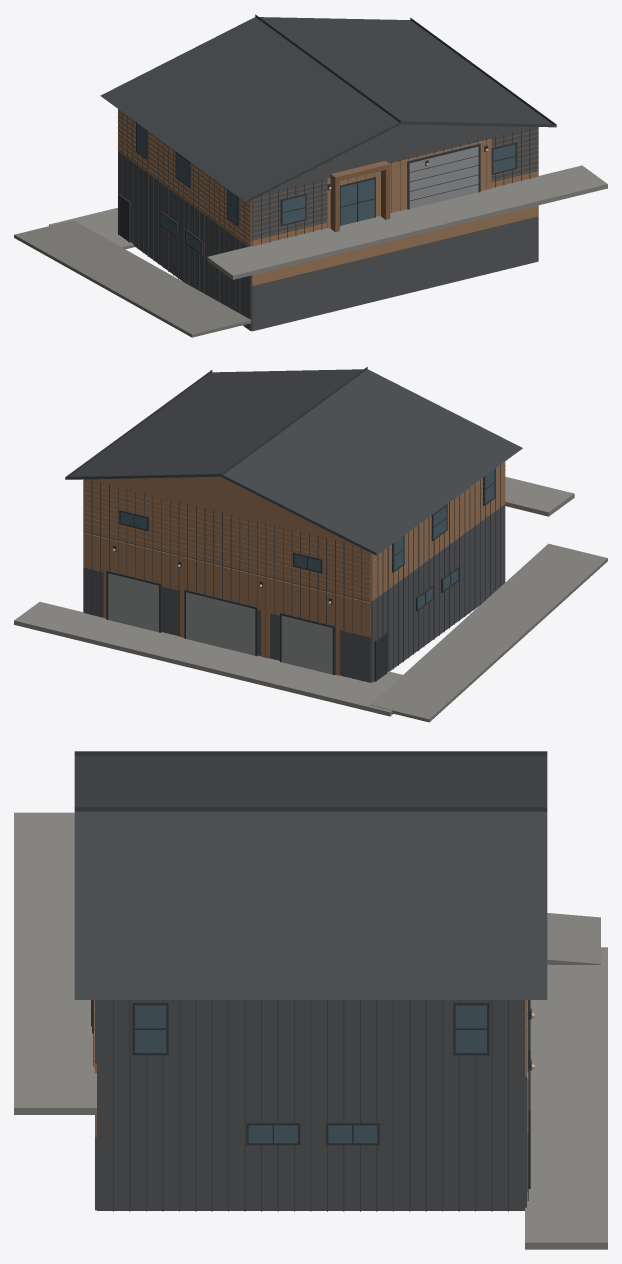
Rendered from walid_warehouse_two_tone.glb.
3 views of the same model, one above another, from view 1: azimuth 30°, elevation 25°; view 2: azimuth 150°, elevation 25°; view 3: azimuth 270°, elevation 25° (orthographic). The views are drawn at different scales.
Visible parts, largest first — view 1: manor_shadow, manor_grey, terrain, burnt_sienna, driveway, burnt_sienna_joint, glazing, black_trim, doors; view 2: manor_shadow, burnt_sienna, manor_grey, driveway, terrain, doors, burnt_sienna_joint, black_trim, glazing; view 3: manor_shadow, manor_grey, terrain, glazing, black_trim, driveway.
Boxes of the visible parts, x1=… form: manor_shadow: x1=100, y1=14, x2=556, y2=327; manor_grey: x1=118, y1=124, x2=538, y2=331; terrain: x1=49, y1=165, x2=607, y2=279; burnt_sienna: x1=118, y1=109, x2=538, y2=285; driveway: x1=14, y1=220, x2=251, y2=337; burnt_sienna_joint: x1=117, y1=113, x2=538, y2=244; glazing: x1=137, y1=123, x2=515, y2=252; black_trim: x1=118, y1=122, x2=517, y2=255; doors: x1=409, y1=146, x2=478, y2=208; manor_shadow: x1=65, y1=367, x2=522, y2=681; burnt_sienna: x1=83, y1=461, x2=505, y2=675; manor_grey: x1=83, y1=479, x2=505, y2=682; driveway: x1=370, y1=543, x2=607, y2=722; terrain: x1=14, y1=476, x2=574, y2=716; doors: x1=108, y1=573, x2=332, y2=674; burnt_sienna_joint: x1=83, y1=465, x2=505, y2=596; black_trim: x1=106, y1=468, x2=495, y2=681; glazing: x1=121, y1=469, x2=494, y2=608; manor_shadow: x1=74, y1=751, x2=547, y2=1211; manor_grey: x1=95, y1=1000, x2=526, y2=1210; terrain: x1=14, y1=812, x2=607, y2=1249; glazing: x1=135, y1=1005, x2=486, y2=1142; black_trim: x1=91, y1=1000, x2=531, y2=1188; driveway: x1=547, y1=913, x2=600, y2=964.
Size of the model in its own units: 22.22 by 9.4 by 17.18.
